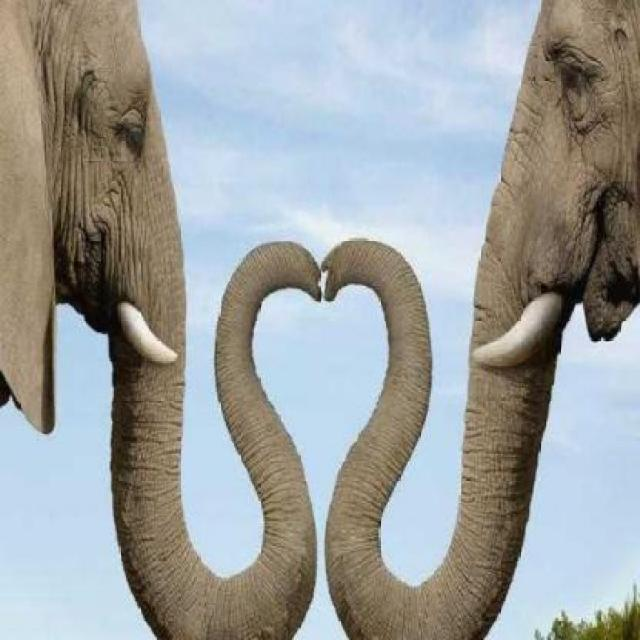Elephant: (295, 6, 640, 632), (1, 1, 319, 627)
